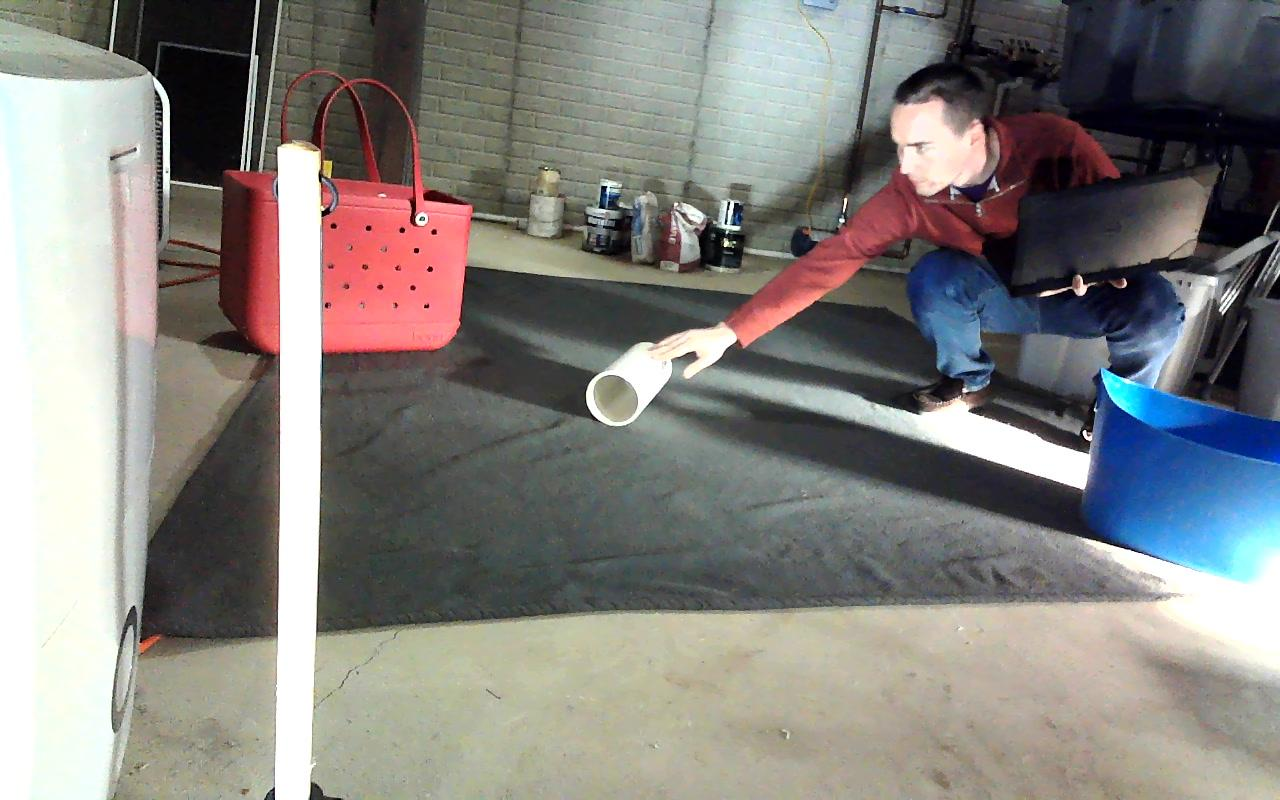coral: (588, 345, 671, 424)
